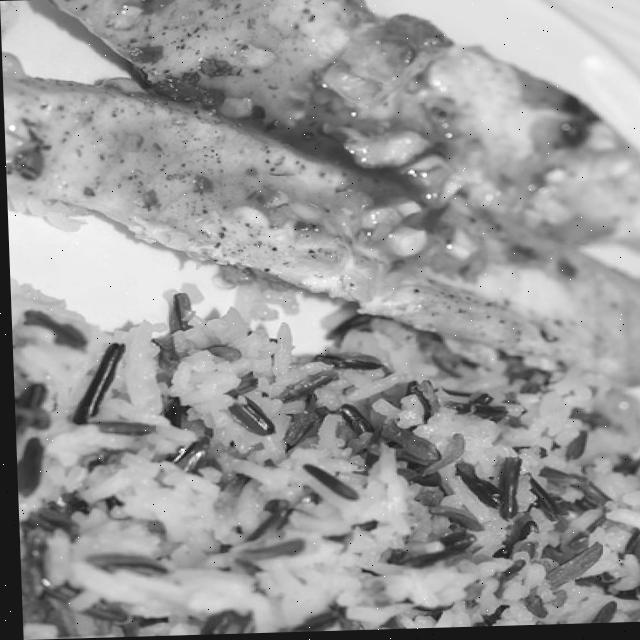熟制海鲜: (19, 0, 640, 619)
